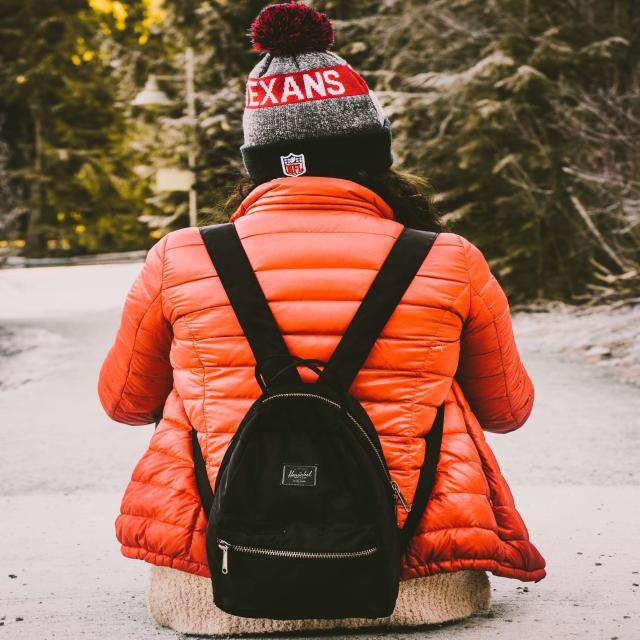backpack: (146, 217, 453, 616)
